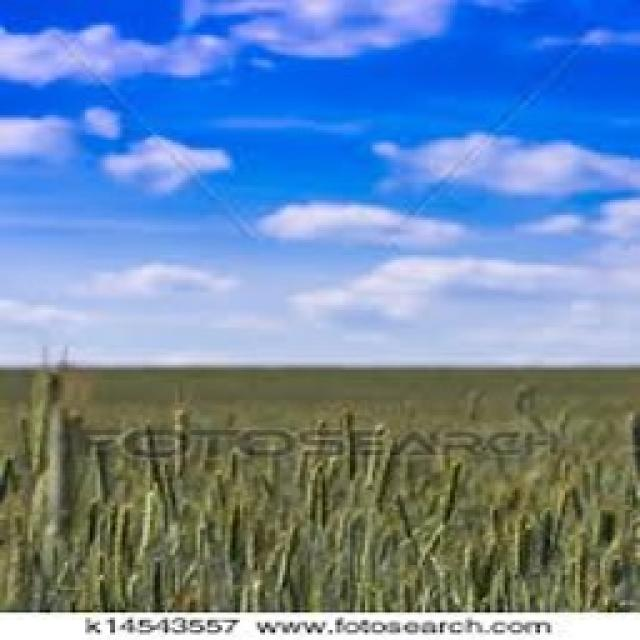Healthy Wheat: (0, 362, 638, 610)
